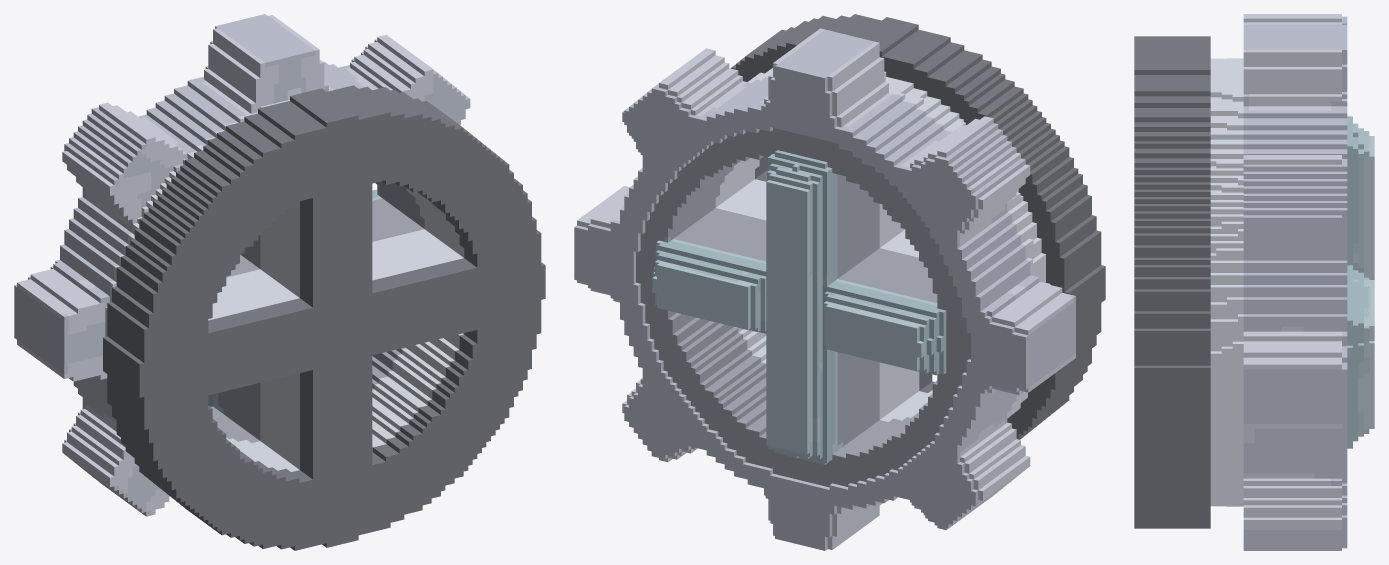
The model's file is wheel.FBX.
3 renders of one model, left to right at view 1: azimuth 30°, elevation 25°; view 2: azimuth 150°, elevation 25°; view 3: azimuth 270°, elevation 25°, orthographic. The views are drawn at different scales.
Visible parts, largest first — view 1: default011; view 2: default011; view 3: default011.
Boxes of the visible parts, box(x1,y1,x2,y2) form: default011: box(14, 14, 545, 550); default011: box(574, 14, 1105, 550); default011: box(1134, 14, 1374, 550).
Bounding box in the file's own units: 857 × 857 × 381.
